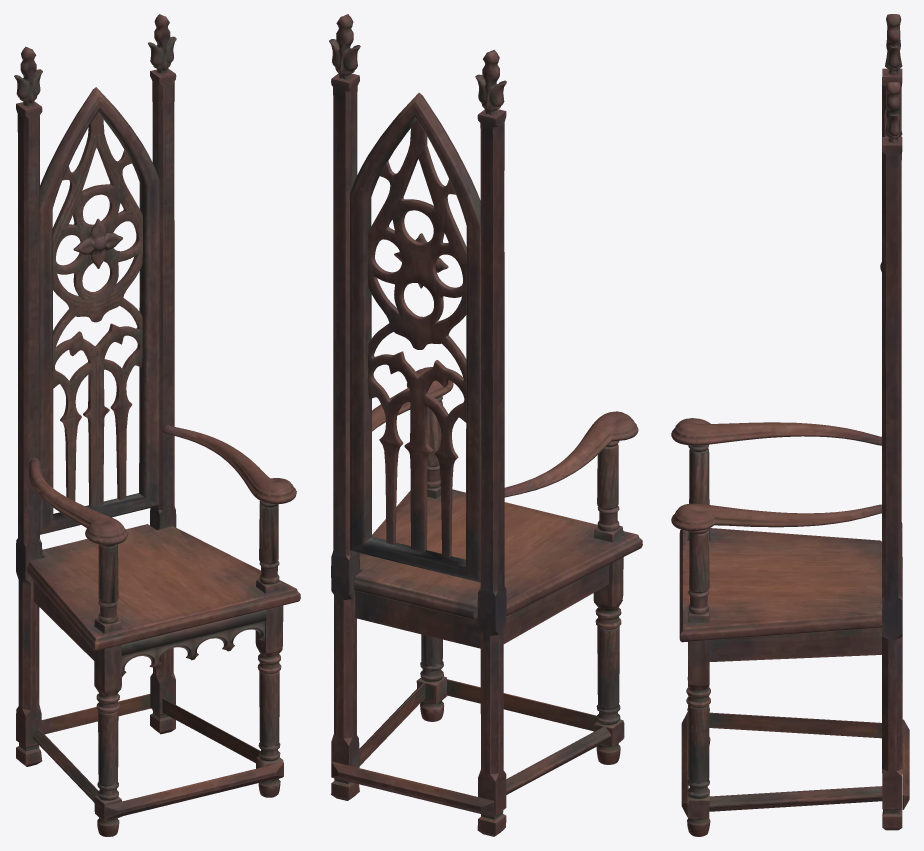
File: WoodenChair_01.glb
3 views of the same model, side by side, from view 1: azimuth 30°, elevation 25°; view 2: azimuth 150°, elevation 25°; view 3: azimuth 270°, elevation 25° (orthographic). The views are drawn at different scales.
Visible parts, largest first — view 1: WoodenChair_01; view 2: WoodenChair_01; view 3: WoodenChair_01.
Part boxes in pixels (left/top/right/bottom): WoodenChair_01: left=14, top=14, right=300, bottom=836; WoodenChair_01: left=329, top=14, right=642, bottom=836; WoodenChair_01: left=671, top=14, right=909, bottom=836.
Size of the model in its own units: 0.6881 by 2.27 by 0.6584.
1 material, 1 textured.
